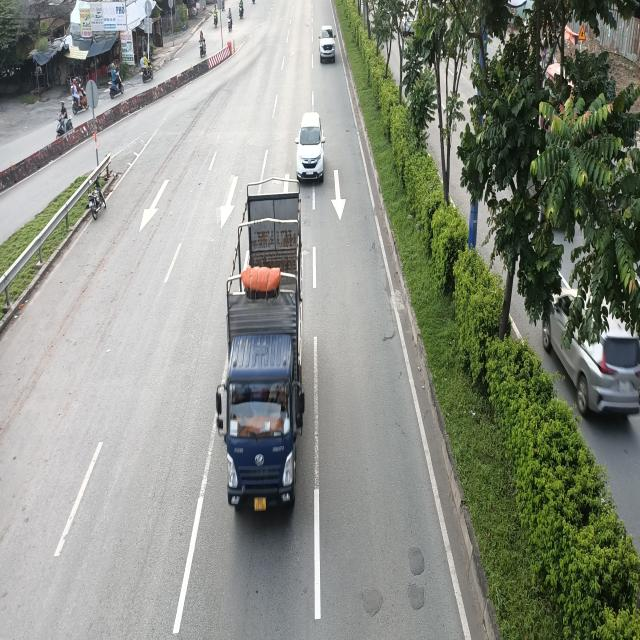car: (294, 113, 324, 185), (318, 25, 336, 65)
truck: (216, 181, 308, 523)
